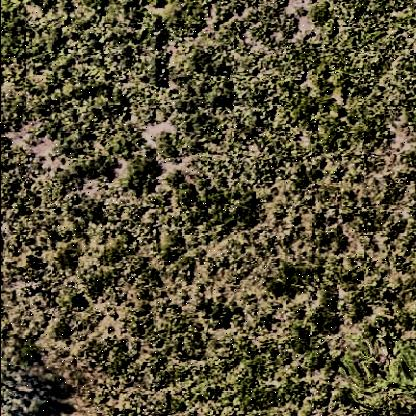tree-top: (3, 352, 57, 416)
